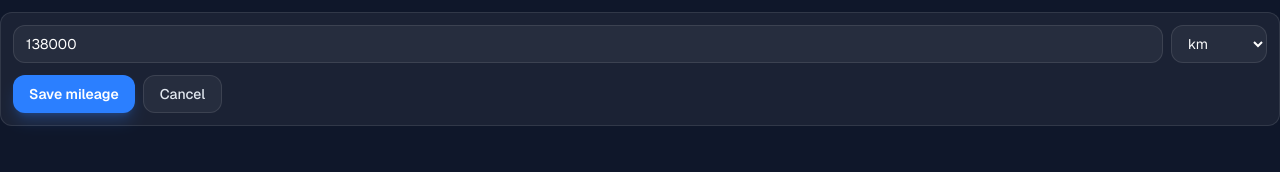
a vehicle's mileage › asks before replacing a reading with one in the other unit
This screenshot has width=1280, height=172.
Replace the text in the field named "Mileage" with "85,750" at [588, 44], box [13,25,1163,63]
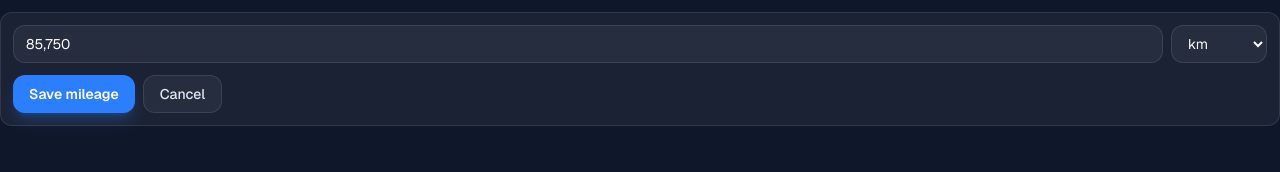
Select "mi" in the dropdown named "Unit" at [1219, 44], box [1171,25,1267,63]
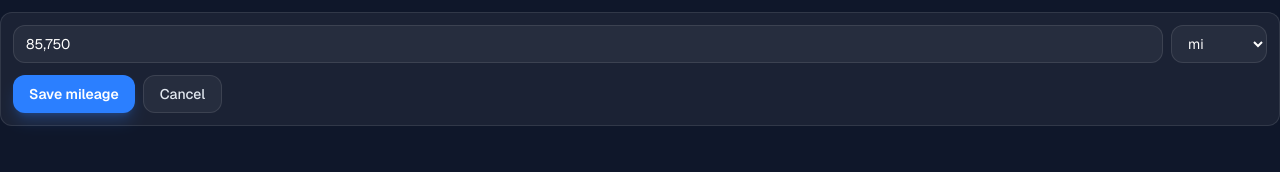
Click the button "Save mileage" at [74, 94], box [13,75,135,113]
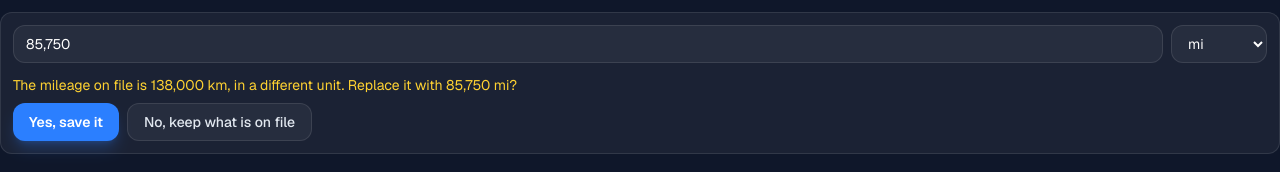
Expected: the text "The mileage on file is 138,000 km, in a different unit. Replace it with 85,750 mi?" is shown, [13,76,517,94]
